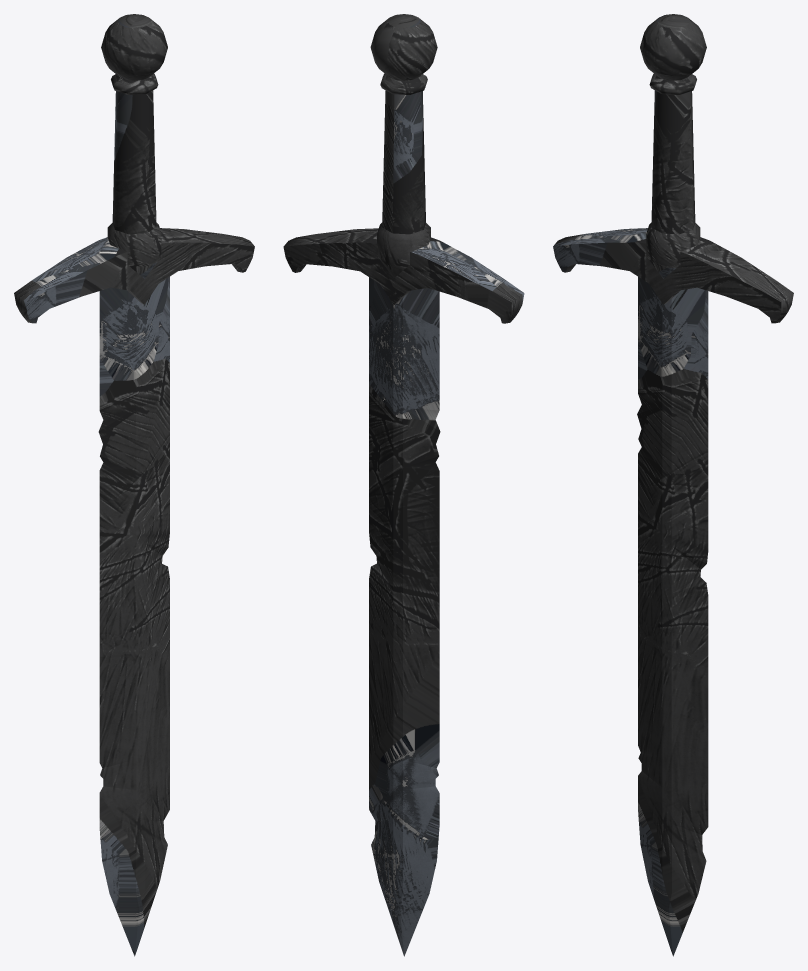
Rendered from old_warriors_sword.obj.
3 views of the same model, side by side, from view 1: azimuth 30°, elevation 25°; view 2: azimuth 150°, elevation 25°; view 3: azimuth 330°, elevation 25° (orthographic).
Visible parts, largest first — view 1: obj1; view 2: obj1; view 3: obj1.
Boxes of the visible parts, <box> form: obj1: <box>14,14,254,956</box>; obj1: <box>283,14,524,956</box>; obj1: <box>553,14,793,956</box>.
Size of the model in its own units: 0.2798 by 1.09 by 0.0704.
